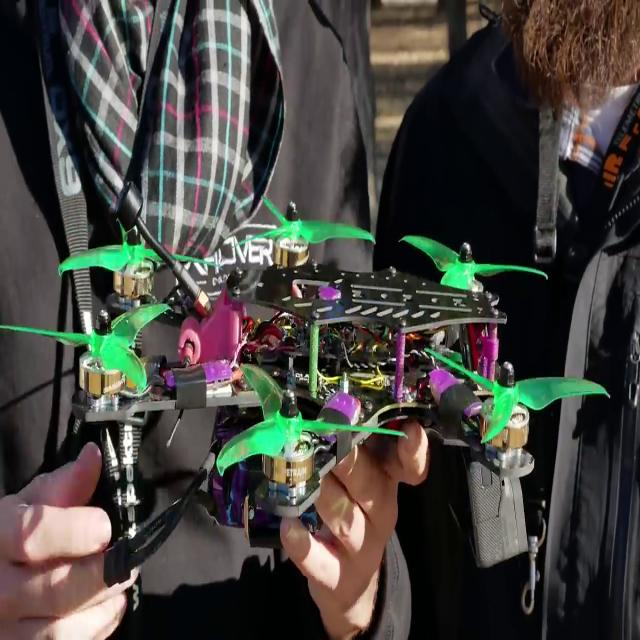drone: (39, 173, 582, 571)
